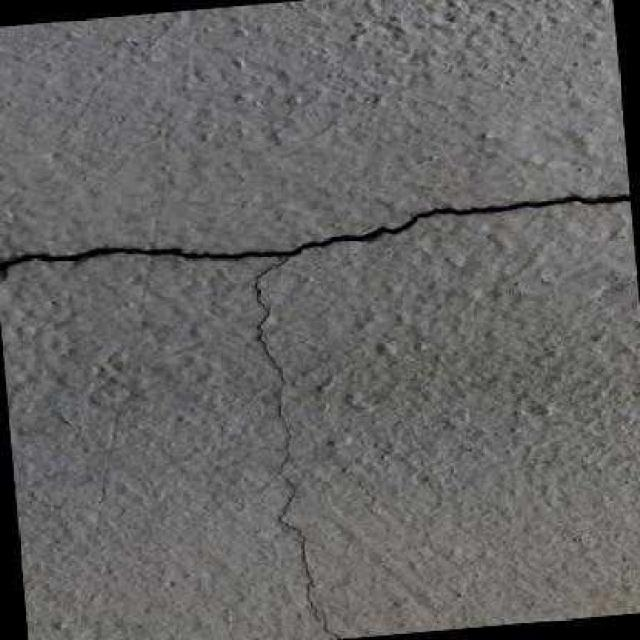D00: (0, 194, 631, 640)
